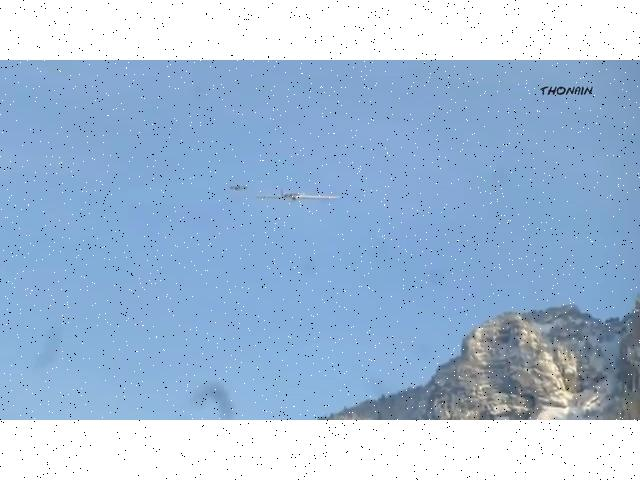Anti-Drone: (228, 178, 352, 217)
